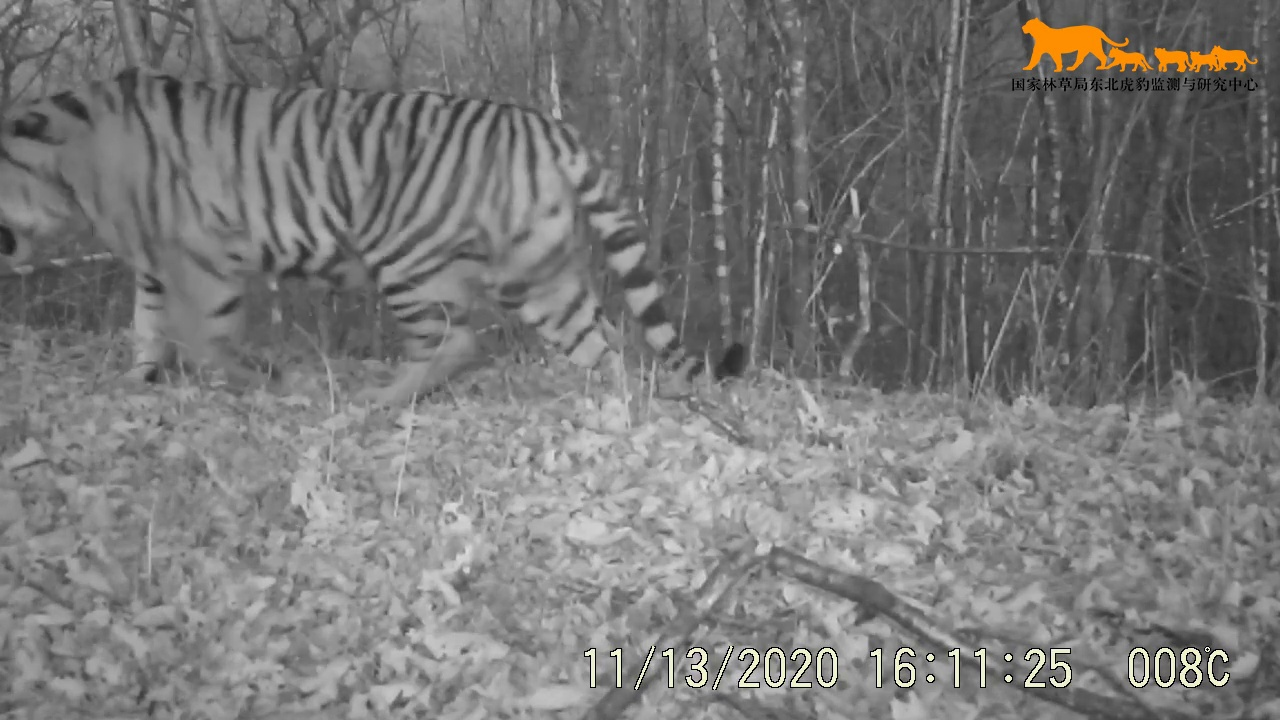Tiger: (1, 56, 783, 435)
